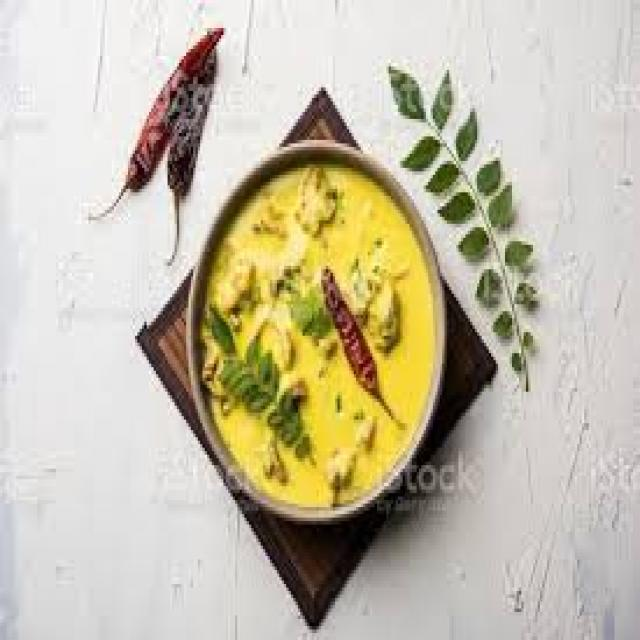Kadhi Pakora: (205, 163, 434, 512)
